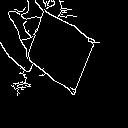cube: (26, 12, 102, 109)
